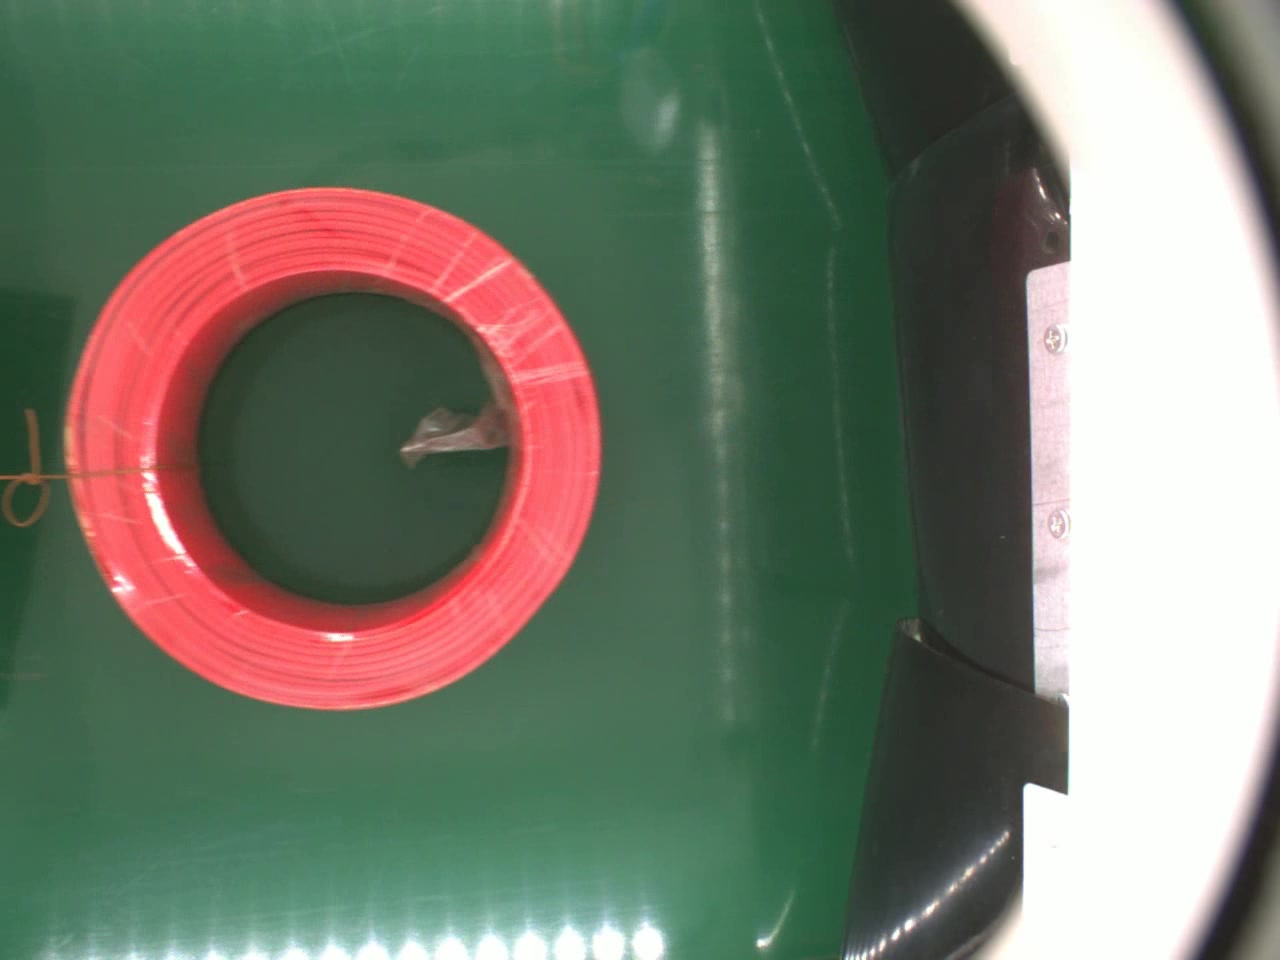red: (65, 179, 605, 715)
